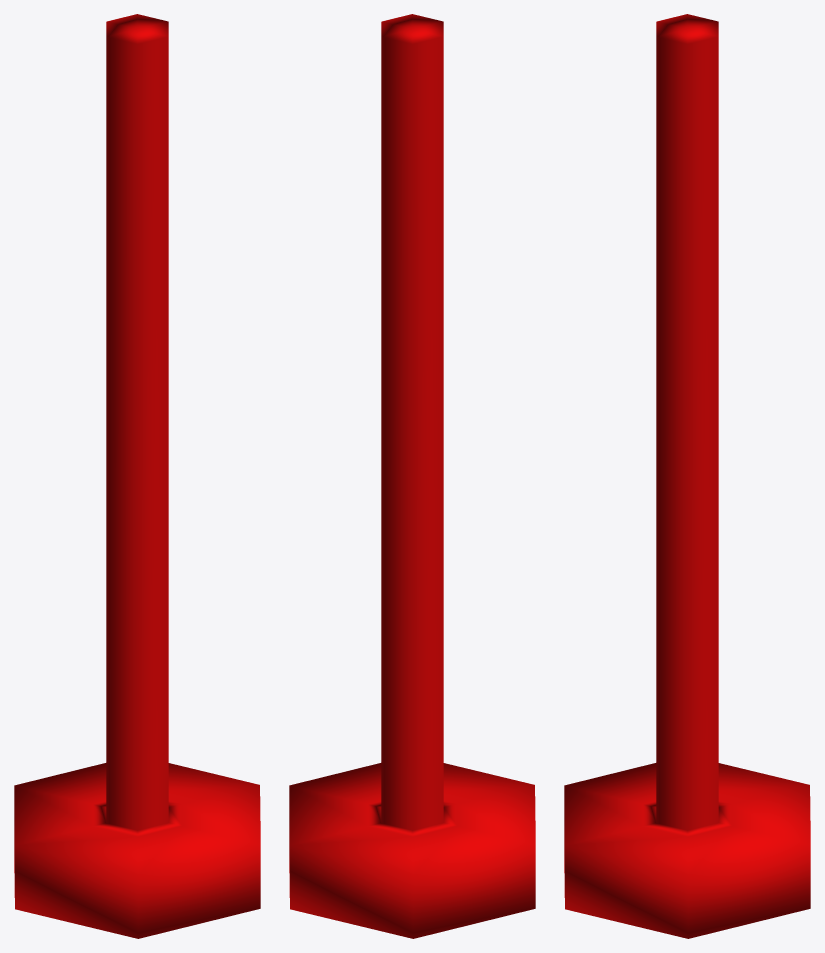
File: mdl_Corredor_torre_tv.fbx
The picture shows the model from 3 angles, left to right: view 1: azimuth 30°, elevation 25°; view 2: azimuth 150°, elevation 25°; view 3: azimuth 270°, elevation 25°; orthographic projection.
Parts seen in each view (by area): view 1: mdl_Corredor_torre_tv; view 2: mdl_Corredor_torre_tv; view 3: mdl_Corredor_torre_tv.
Boxes of the visible parts, x1,y1,x2,y2 form: mdl_Corredor_torre_tv: [14, 14, 260, 938]; mdl_Corredor_torre_tv: [289, 14, 535, 938]; mdl_Corredor_torre_tv: [564, 14, 810, 938].
Bounding box in the file's own units: 2 × 6.61 × 1.74.
